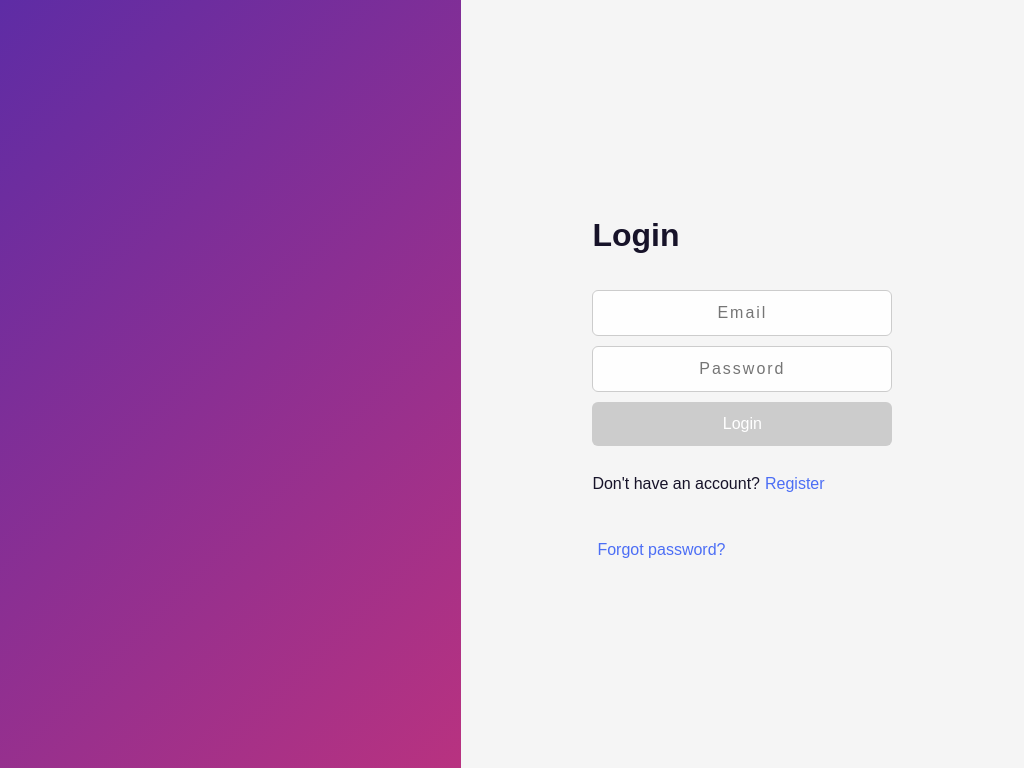
it: Unit-тестування компонента <Login /> › показує повідомлення про помилку при введенні неправильного email
Type "not-an-email" into the field with placeholder "Email".
click(742, 313); type("not-an-email")  # box x1=592 y1=290 x2=892 y2=336
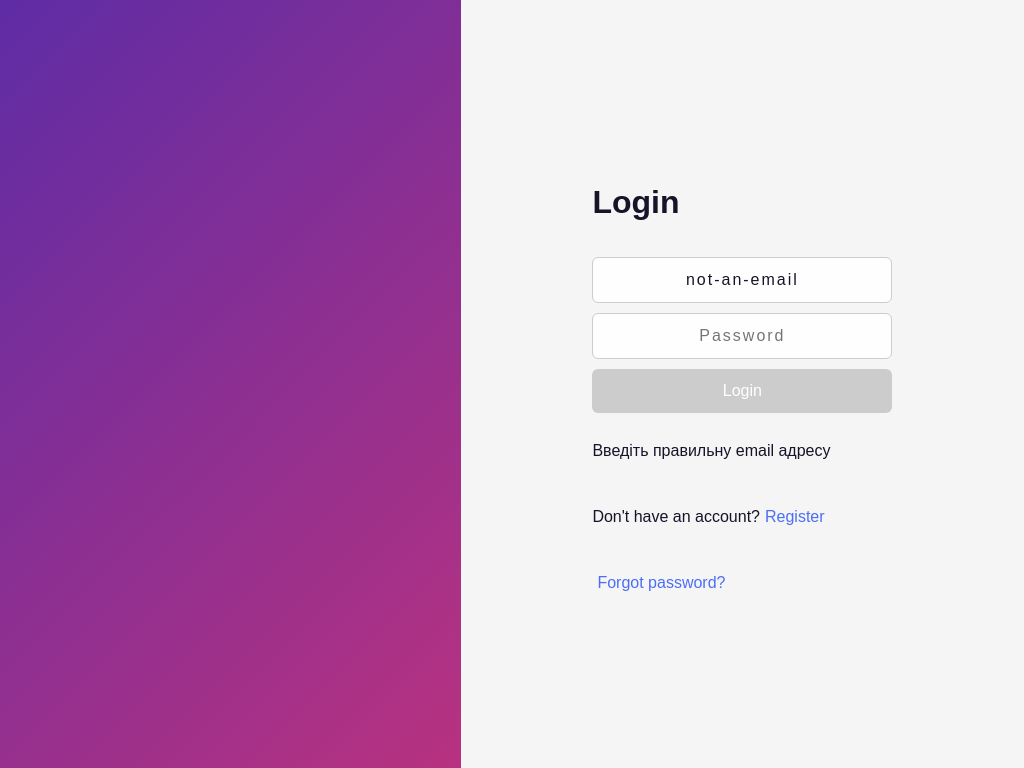
Expected: the text "Введіть правильну email адресу" is shown, x1=592 y1=442 x2=830 y2=459
